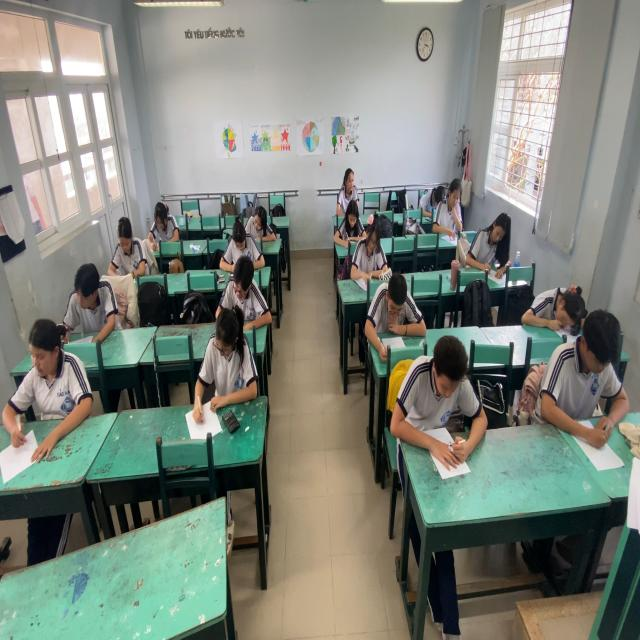cheating: (0, 316, 94, 430)
not_cheating: (395, 327, 496, 461), (545, 313, 633, 430), (205, 306, 261, 406), (67, 264, 117, 336), (464, 210, 524, 270), (518, 275, 586, 323), (374, 274, 426, 336), (224, 257, 273, 319), (351, 212, 394, 274), (109, 210, 150, 274), (218, 219, 263, 268), (438, 174, 465, 240), (145, 198, 181, 247), (238, 201, 276, 243), (335, 196, 366, 243), (418, 182, 452, 215), (335, 164, 358, 212)
